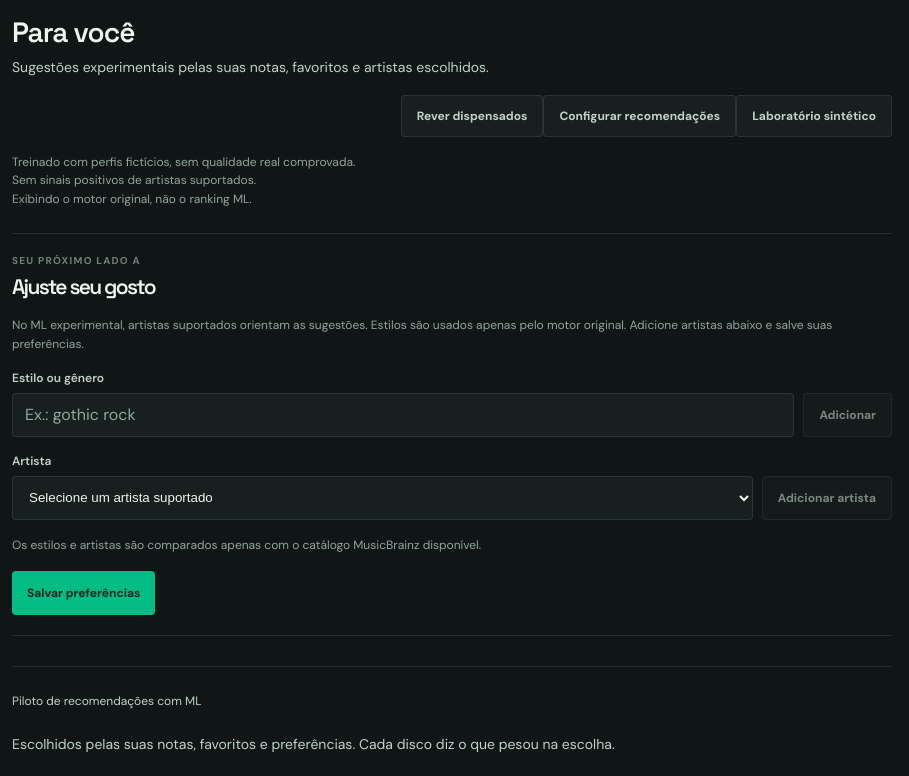
it: RecommendationsPage › lets a new profile choose supported artists without depending on external search
The image size is (909, 776).
Expected: the text "Sem sinais positivos de artistas suportados." is shown, [12, 172, 256, 188]
Select "The Cure" in the dropdown labelled "Artista" at (382, 498), box [12, 476, 753, 520]
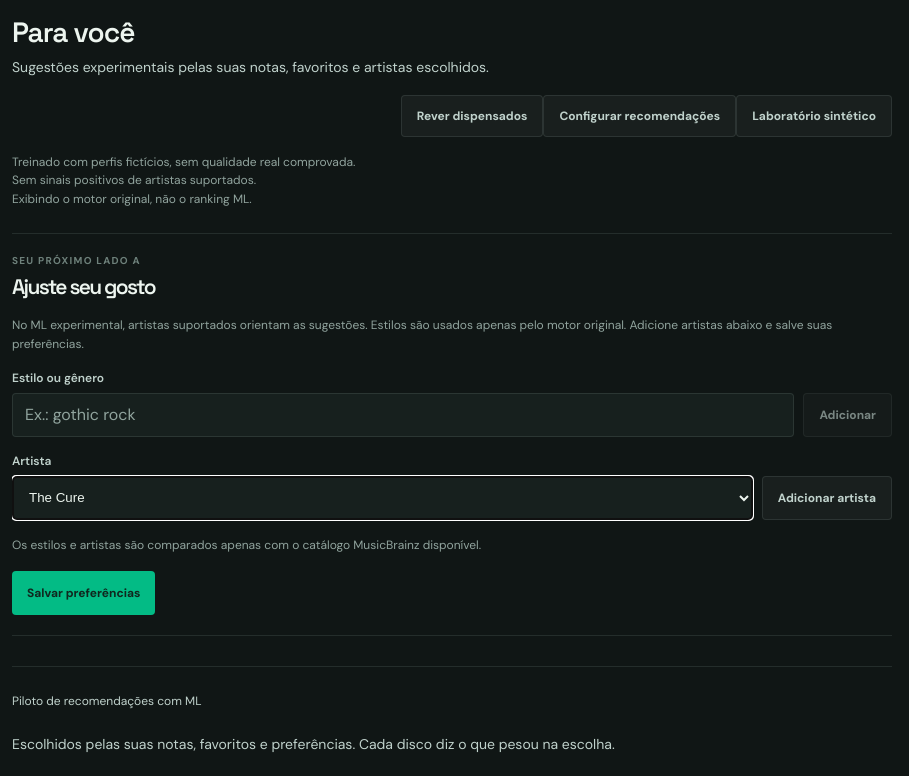
Click the button "Adicionar artista" at (827, 498), box [762, 476, 892, 520]
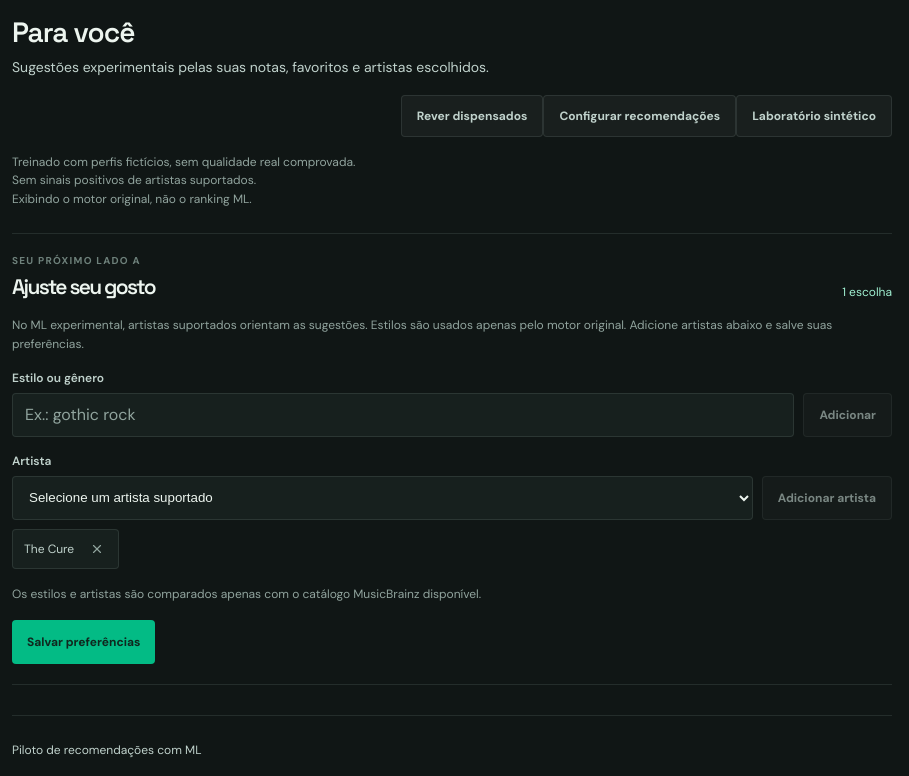
Click the button "Salvar preferências" at (84, 642), box [12, 620, 155, 664]
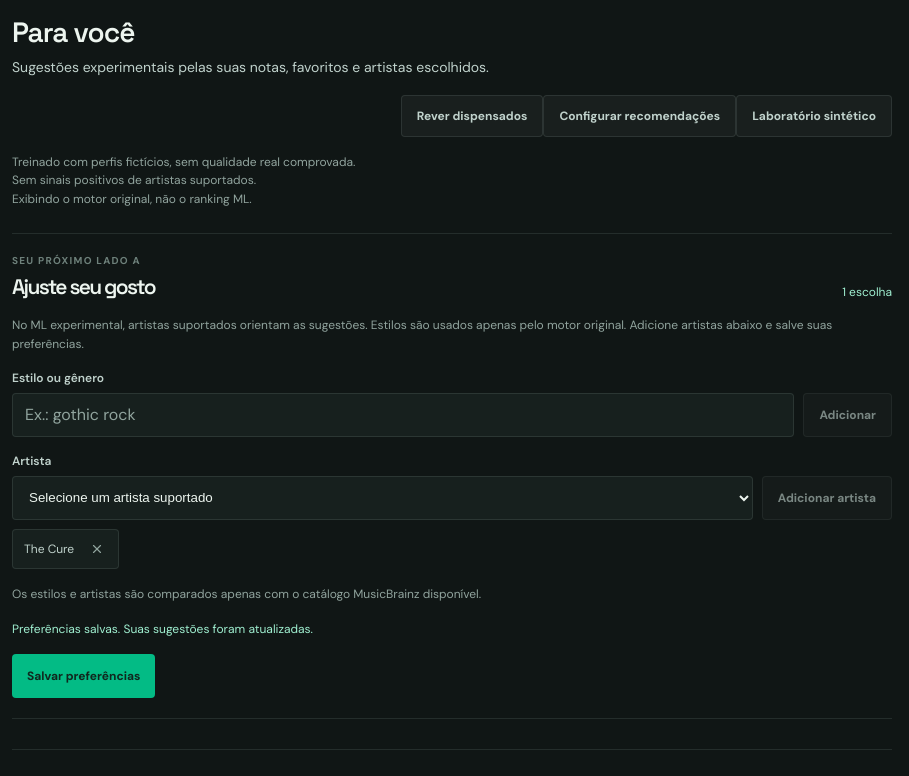
Now the text "Preferências salvas. Suas sugestões foram atualizadas." is shown, box [12, 621, 313, 637]
